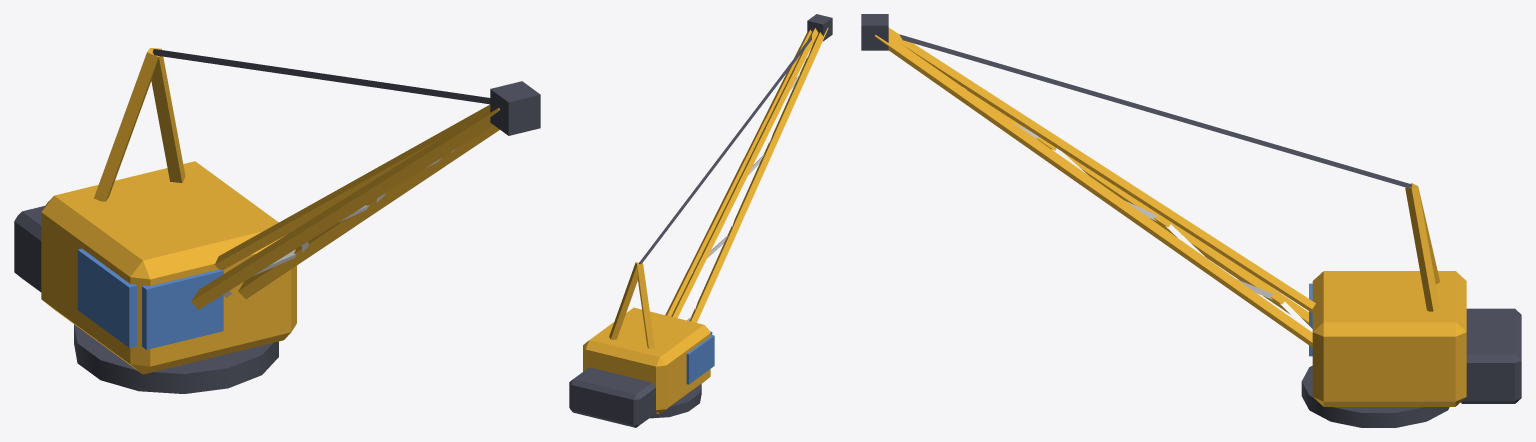
File: oil-refinery.crane.glb
3 renders of one model, left to right at view 1: azimuth 30°, elevation 25°; view 2: azimuth 150°, elevation 25°; view 3: azimuth 270°, elevation 25°, orthographic. The views are drawn at different scales.
Visible parts, largest first — view 1: model; view 2: model; view 3: model.
Boxes of the visible parts, <box> form: model: <box>14,48,540,393</box>; model: <box>569,14,832,427</box>; model: <box>861,14,1521,427</box>.
Bounding box in the file's own units: 0.2735 × 0.7554 × 1.2.
Materials: 1 (1 with a texture image).
